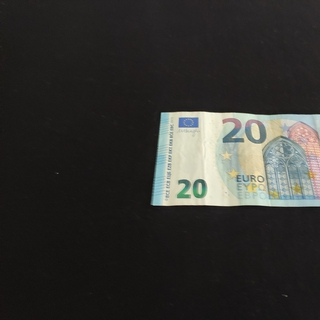20EUROFront: (150, 111, 320, 206)
